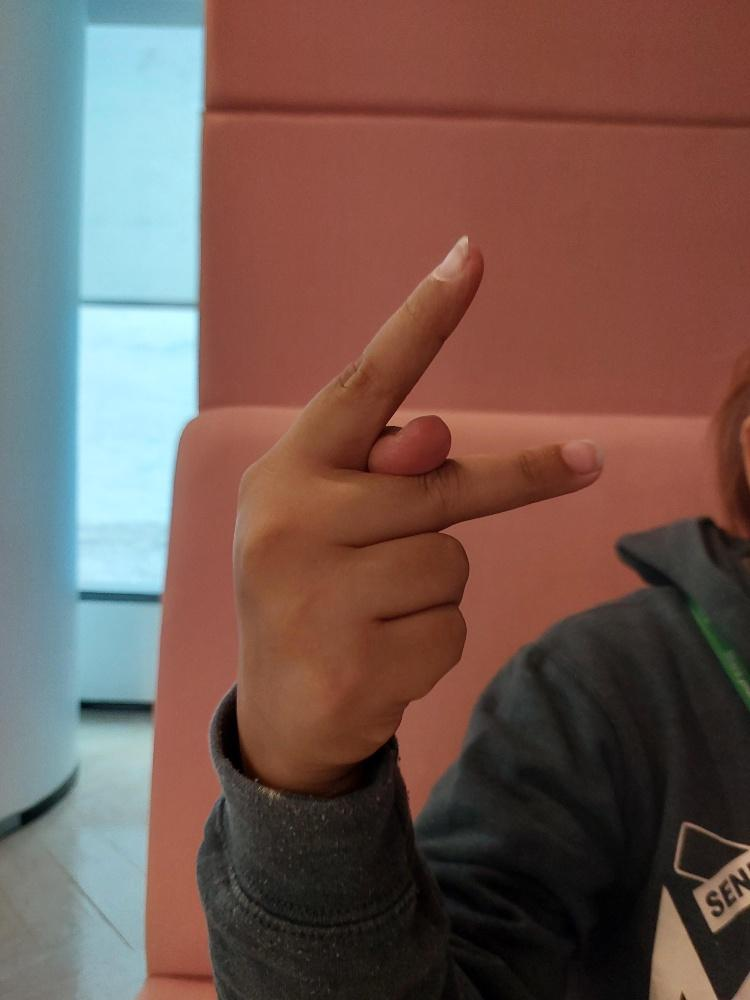k: (217, 222, 608, 775)
